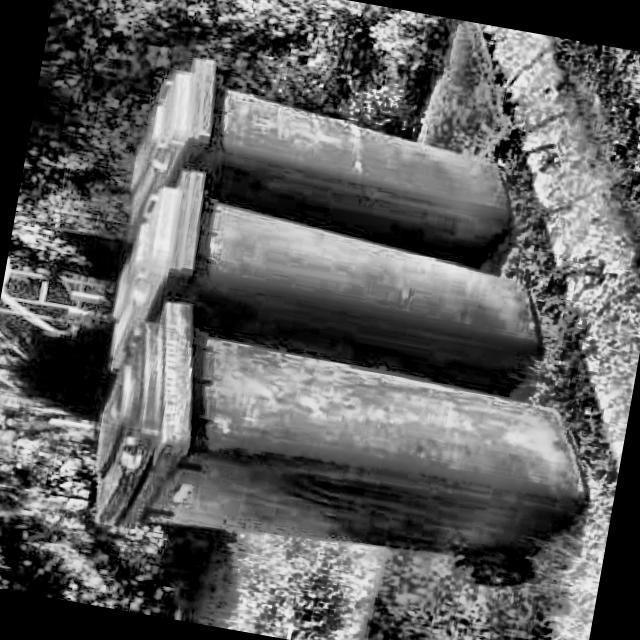Dustbin: (73, 285, 619, 616), (103, 156, 594, 408), (115, 42, 540, 278)
